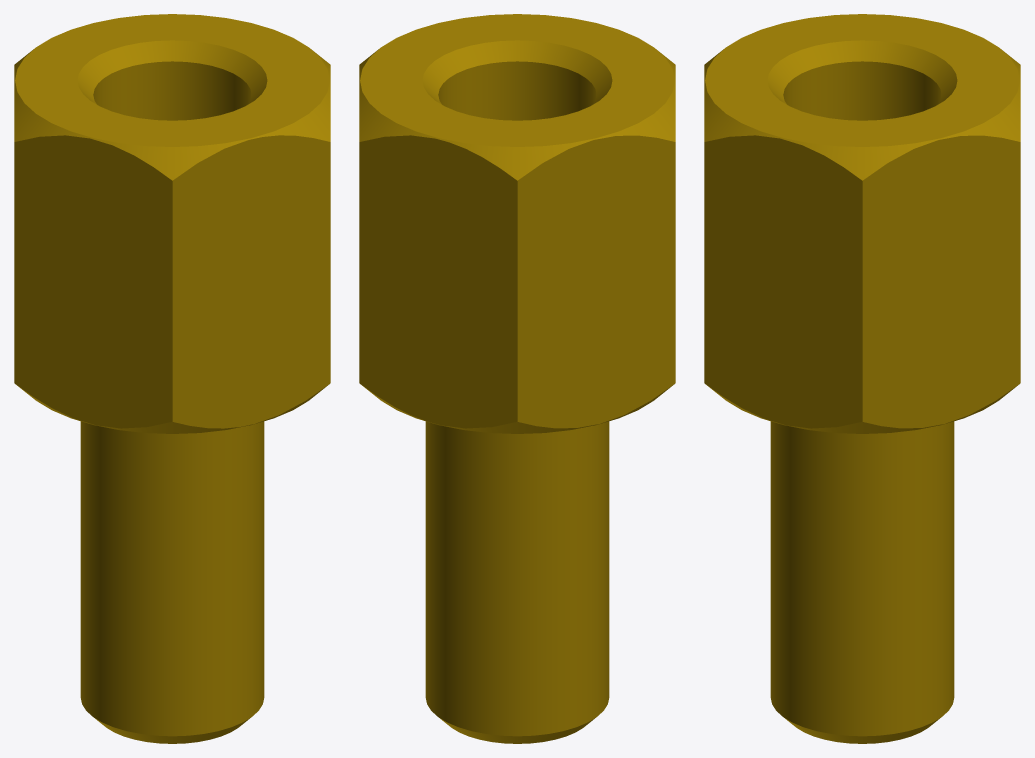
Rendered from M3_M_TO_F_5MM_STANDOFF.glb.
The picture shows the model from 3 angles, left to right: view 1: azimuth 30°, elevation 25°; view 2: azimuth 150°, elevation 25°; view 3: azimuth 270°, elevation 25°; orthographic projection.
Visible parts, largest first — view 1: M3_M_TO_F_5MM_STANDOFF; view 2: M3_M_TO_F_5MM_STANDOFF; view 3: M3_M_TO_F_5MM_STANDOFF.
Part boxes in pixels (box(x1,y1,x2,y2)): M3_M_TO_F_5MM_STANDOFF: box(14, 14, 330, 743); M3_M_TO_F_5MM_STANDOFF: box(359, 14, 675, 743); M3_M_TO_F_5MM_STANDOFF: box(704, 14, 1020, 743).
Bounding box in the file's own units: 0.00577 × 0.011 × 0.005.
